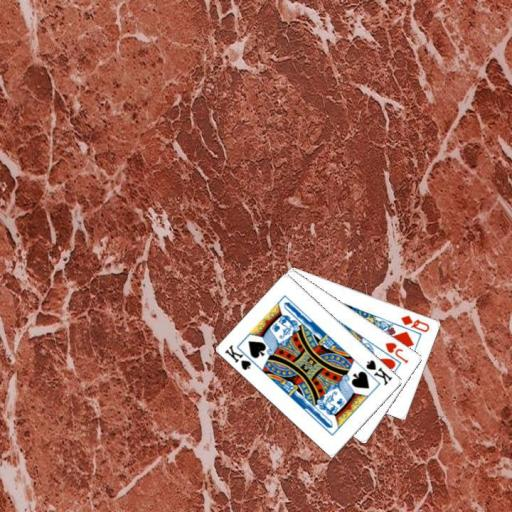JH: (383, 339, 410, 365)
KS: (222, 341, 259, 372), (363, 356, 394, 387)
QD: (398, 312, 431, 334)
